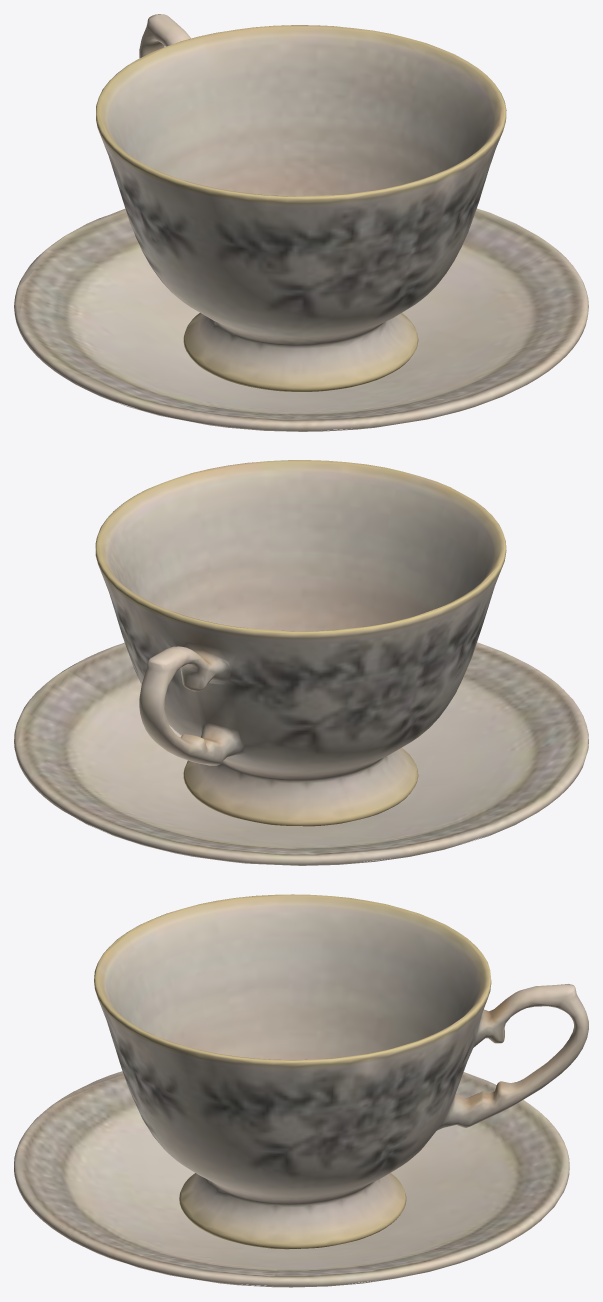
File: kh_teacup.glb
3 views of the same model, one above another, from view 1: azimuth 30°, elevation 25°; view 2: azimuth 150°, elevation 25°; view 3: azimuth 270°, elevation 25° (orthographic). The views are drawn at different scales.
Visible parts, largest first — view 1: tea_cup, tea_saucer; view 2: tea_cup, tea_saucer; view 3: tea_cup, tea_saucer.
Boxes of the visible parts, x1,y1,x2,y2 form: tea_cup: [96, 14, 506, 391]; tea_saucer: [14, 208, 588, 431]; tea_cup: [95, 460, 506, 826]; tea_saucer: [14, 642, 588, 865]; tea_cup: [94, 894, 588, 1249]; tea_saucer: [14, 1071, 569, 1287].
Size of the model in its own units: 0.1486 by 0.0704 by 0.1536.
2 materials, 2 textured.
